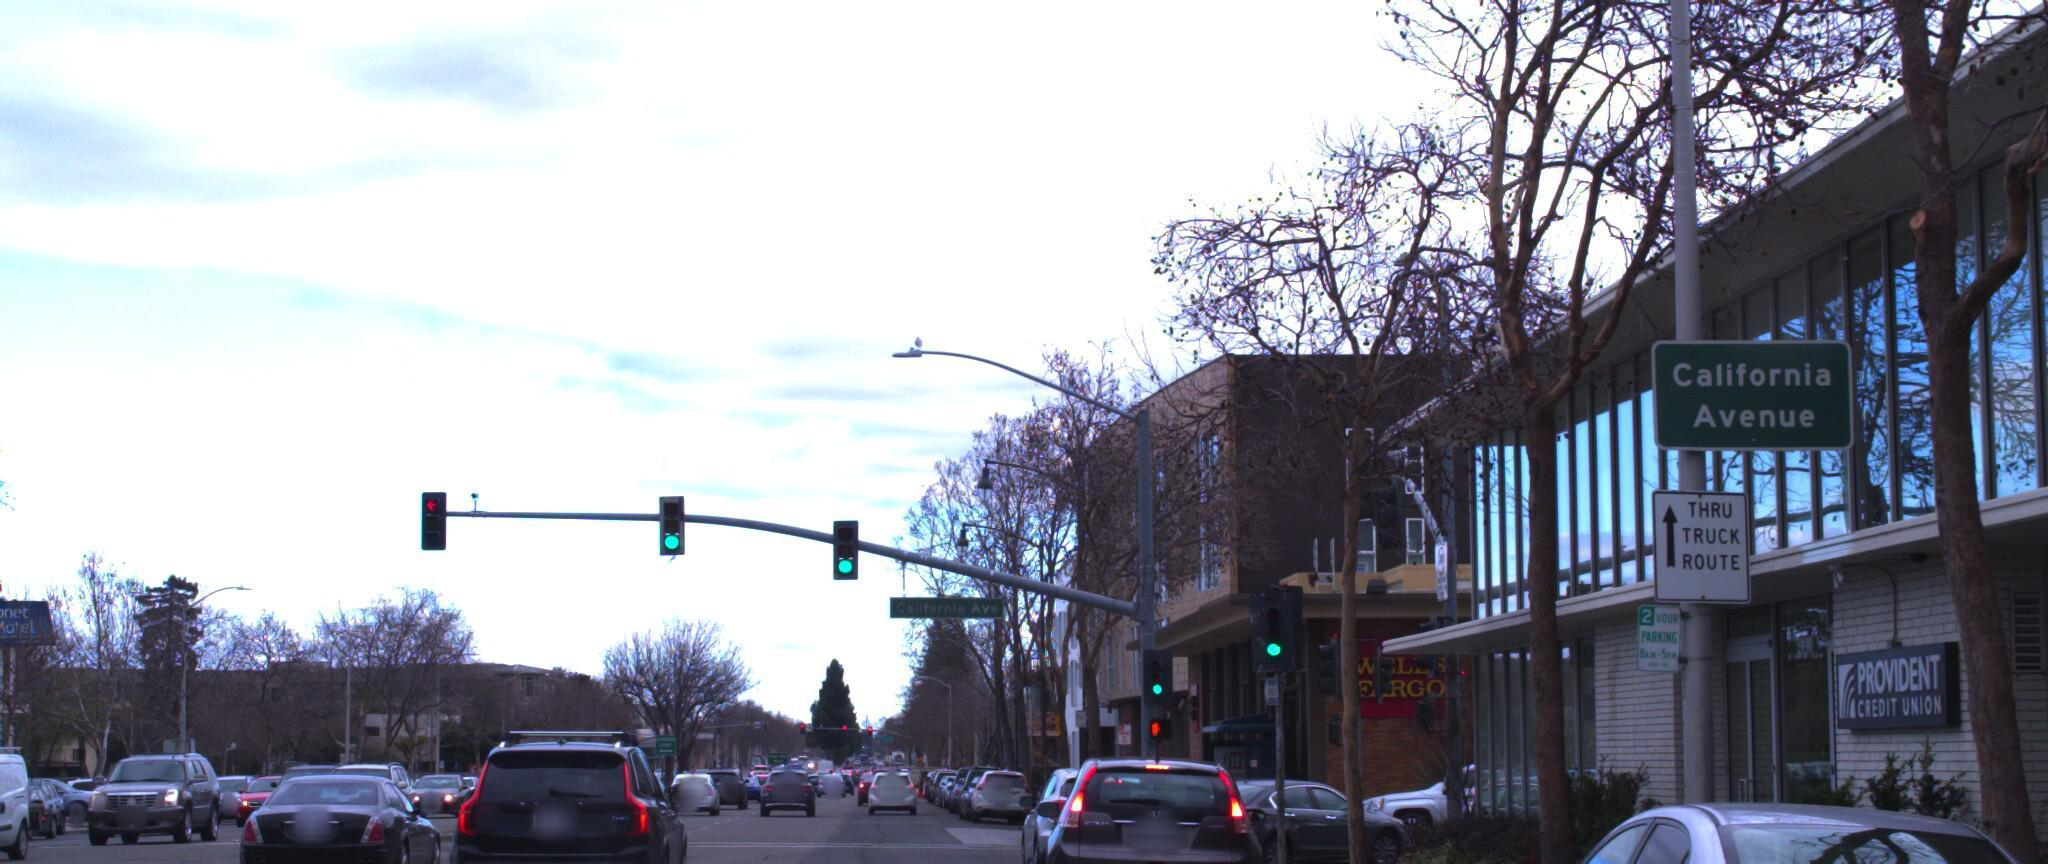car: (1448, 774, 2048, 864), (443, 702, 700, 864), (1128, 748, 1415, 864), (1045, 733, 1268, 864), (214, 750, 458, 864), (1328, 741, 1584, 837), (1004, 733, 1159, 864), (102, 754, 232, 847), (0, 728, 54, 857)
truck: (0, 572, 51, 864)
